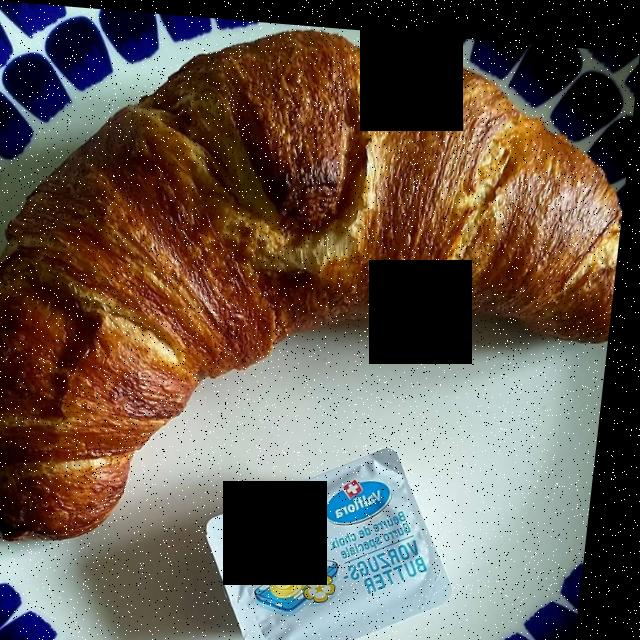butter: (207, 436, 460, 640)
croissant: (0, 29, 616, 520)
